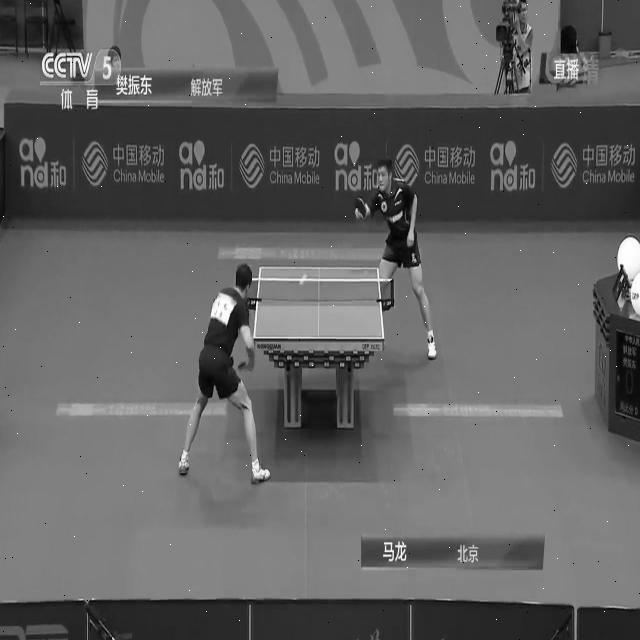ping-pong-ball: (298, 274, 308, 284)
